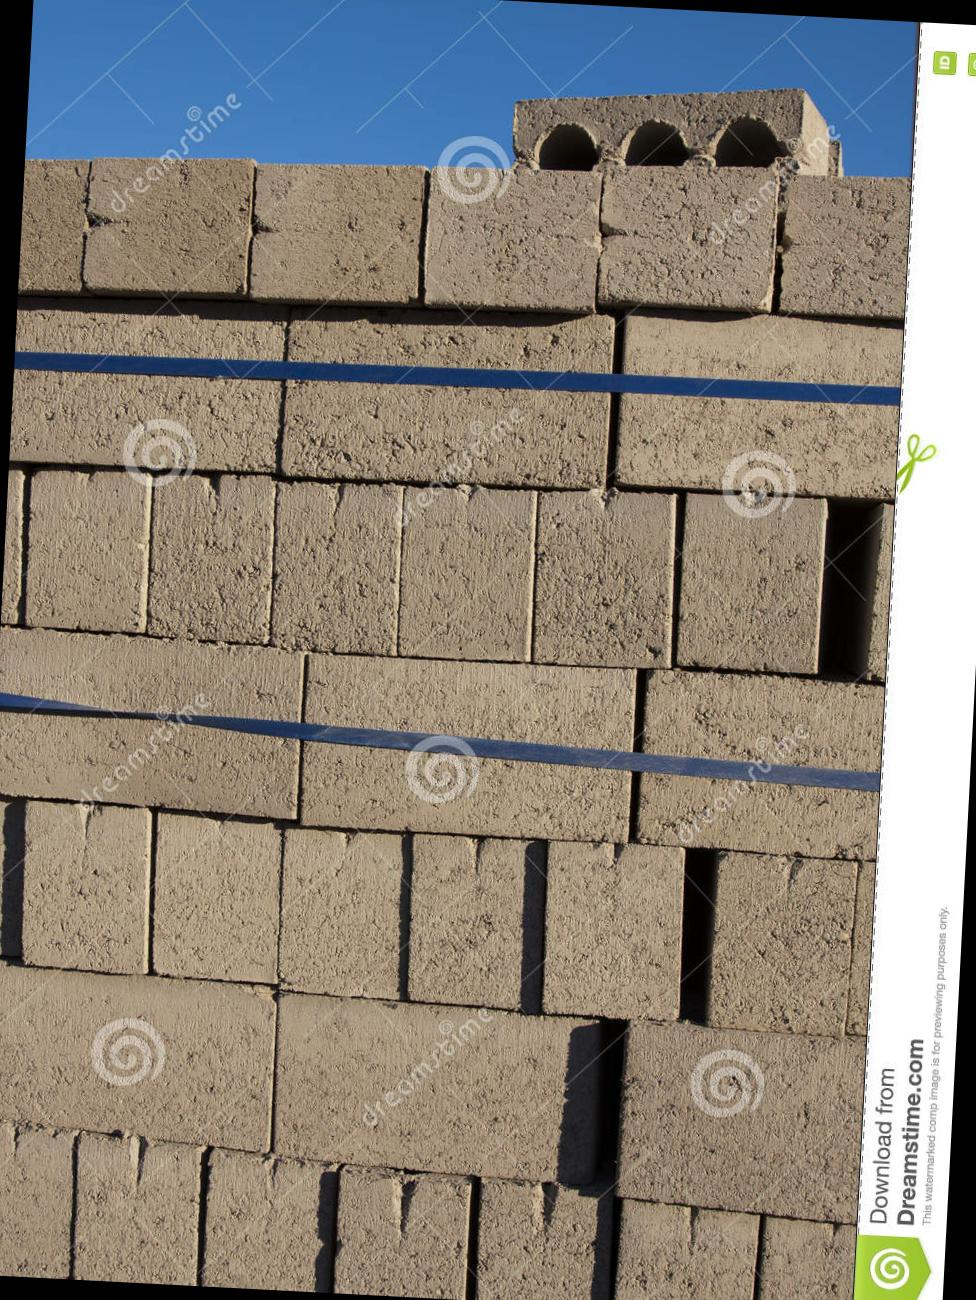brick: (298, 652, 638, 845), (281, 298, 615, 490), (271, 994, 600, 1184), (0, 626, 306, 819), (0, 953, 278, 1151), (616, 308, 904, 497), (617, 1019, 867, 1222), (637, 666, 885, 859), (9, 306, 285, 472), (709, 850, 876, 1035), (676, 490, 826, 673), (422, 163, 603, 313), (598, 161, 779, 310), (532, 487, 680, 669), (541, 839, 687, 1021), (250, 156, 426, 304), (398, 484, 538, 661), (83, 150, 254, 294), (18, 801, 156, 975), (270, 479, 405, 655), (150, 812, 287, 983), (149, 470, 276, 643), (277, 828, 406, 998), (405, 834, 528, 1007), (26, 468, 152, 631), (72, 1136, 202, 1285), (781, 171, 911, 317), (203, 1148, 326, 1292), (335, 1171, 472, 1300), (476, 1178, 598, 1300), (613, 1199, 758, 1300), (0, 1118, 76, 1277), (18, 157, 89, 292), (757, 1217, 857, 1300)
